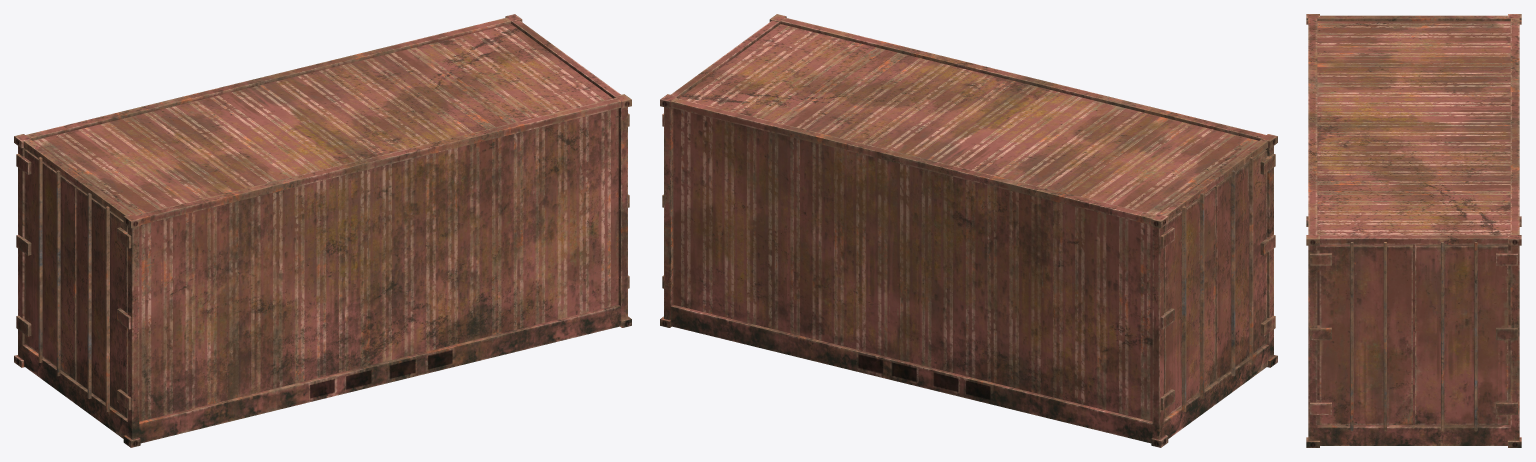
The model's file is Component_ContainerRed_grp.fbx.
3 views of the same model, side by side, from view 1: azimuth 30°, elevation 25°; view 2: azimuth 150°, elevation 25°; view 3: azimuth 270°, elevation 25° (orthographic). The views are drawn at different scales.
Visible parts, largest first — view 1: containerRed_containerRed; view 2: containerRed_containerRed; view 3: containerRed_containerRed.
Boxes of the visible parts, bbox=[...] form: containerRed_containerRed: bbox=[14, 14, 631, 447]; containerRed_containerRed: bbox=[660, 14, 1277, 447]; containerRed_containerRed: bbox=[1306, 14, 1521, 447].
Size of the model in its own units: 606 by 262 by 245.
